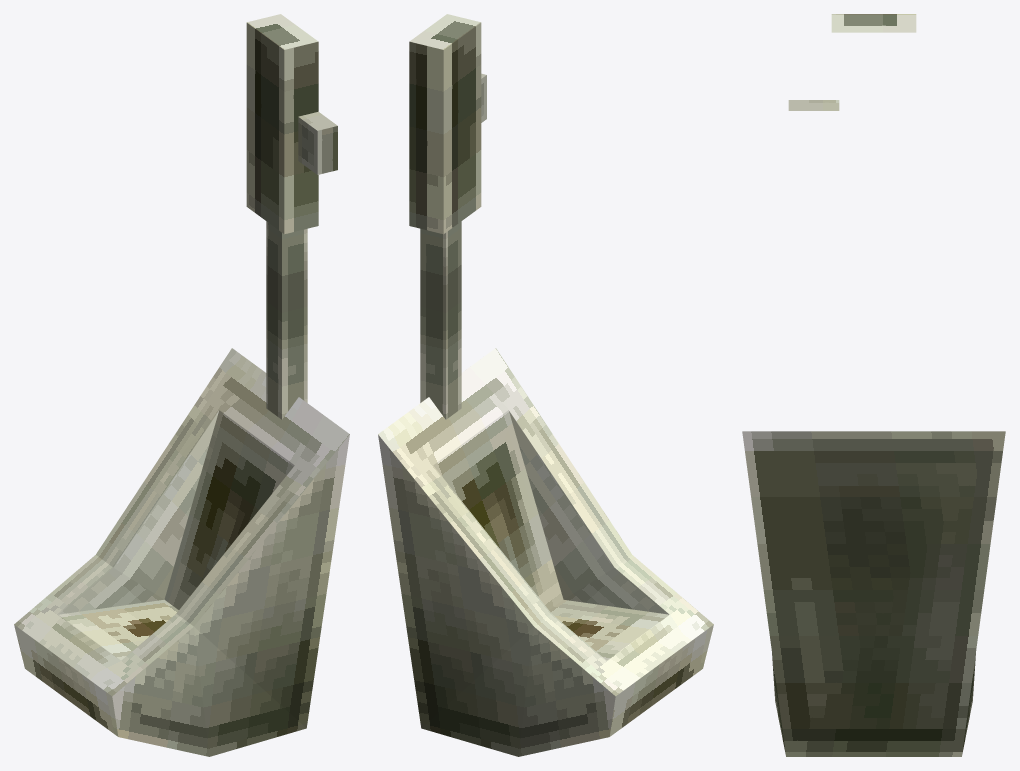
The model's file is prop_urinal.glb.
3 renders of one model, left to right at view 1: azimuth 30°, elevation 25°; view 2: azimuth 150°, elevation 25°; view 3: azimuth 270°, elevation 25°, orthographic. The views are drawn at different scales.
Visible parts, largest first — view 1: Urinal2; view 2: Urinal2; view 3: Urinal2.
Boxes of the visible parts, left/top/right/bottom form: Urinal2: left=14, top=14, right=349, bottom=756; Urinal2: left=378, top=14, right=713, bottom=756; Urinal2: left=742, top=14, right=1005, bottom=756.
Size of the model in its own units: 0.556 by 1.49 by 0.48.
1 material, 1 textured.
